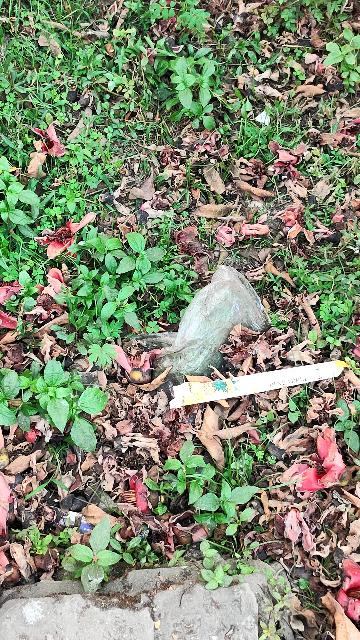polythene: (170, 260, 263, 387)
